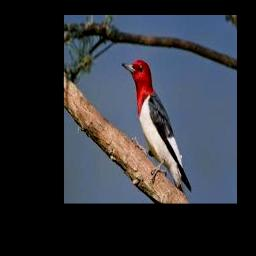Woodpecker: (122, 59, 192, 198)
